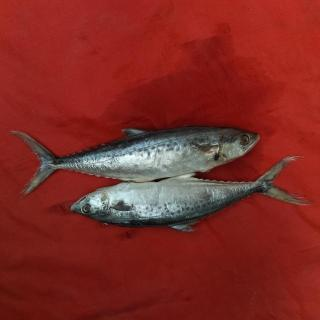Ikan: (10, 115, 318, 239)
